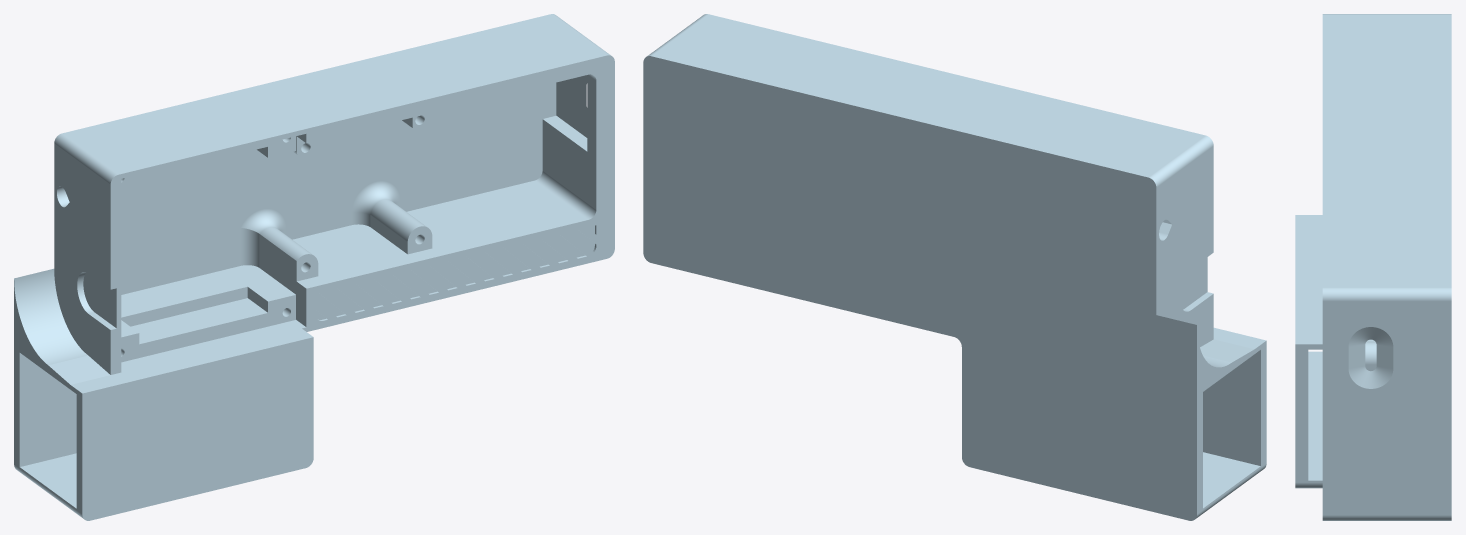
Rendered from factory.gltf.
3 views of the same model, side by side, from view 1: azimuth 30°, elevation 25°; view 2: azimuth 150°, elevation 25°; view 3: azimuth 270°, elevation 25° (orthographic). The views are drawn at different scales.
Parts seen in each view (by area): view 1: screen joystick; view 2: screen joystick; view 3: screen joystick.
Part boxes in pixels (x1,y1,x2,y2): screen joystick: [14, 14, 614, 520]; screen joystick: [643, 14, 1266, 520]; screen joystick: [1295, 14, 1451, 520].
Bounding box in the file's own units: 0.1765 × 0.1015 × 0.0384.
